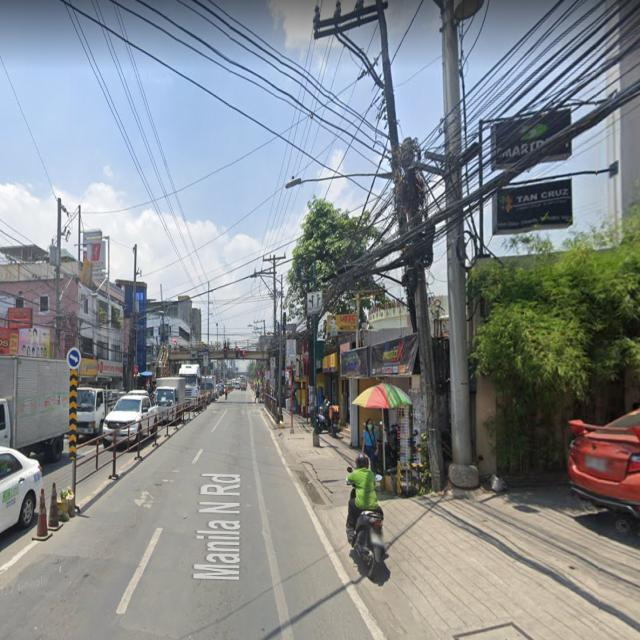keep right: (64, 340, 85, 376)
